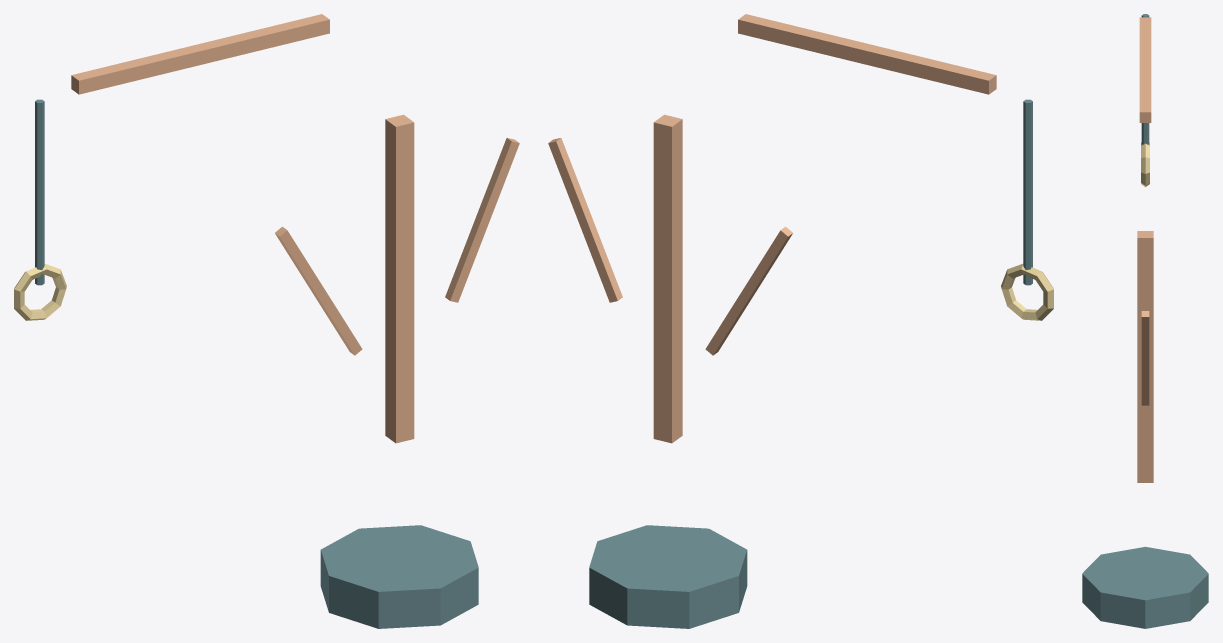
The model's file is harbour-crane-01.glb.
3 renders of one model, left to right at view 1: azimuth 30°, elevation 25°; view 2: azimuth 150°, elevation 25°; view 3: azimuth 270°, elevation 25°, orthographic. The views are drawn at different scales.
Visible parts, largest first — view 1: Base, Mast, Arm, Brace_1, Brace_0, Cable, Hook; view 2: Base, Mast, Arm, Brace_1, Brace_0, Cable, Hook; view 3: Base, Mast, Arm, Brace_1, Hook, Cable.
Boxes of the visible parts, box(x1,y1,x2,y2) form: Base: box(320, 525, 478, 628); Mast: box(385, 114, 414, 443); Arm: box(71, 14, 329, 94); Brace_1: box(445, 138, 519, 302); Brace_0: box(275, 226, 362, 355); Cable: box(35, 99, 44, 285); Hook: box(14, 264, 66, 320); Base: box(589, 525, 747, 628); Mast: box(653, 114, 682, 443); Arm: box(738, 14, 996, 94); Brace_1: box(548, 138, 622, 302); Brace_0: box(705, 226, 792, 355); Cable: box(1023, 99, 1032, 285); Hook: box(1001, 264, 1053, 320); Base: box(1082, 546, 1208, 628); Mast: box(1137, 231, 1153, 482); Arm: box(1139, 17, 1151, 122); Brace_1: box(1141, 311, 1149, 405); Hook: box(1141, 142, 1149, 186); Cable: box(1141, 14, 1149, 144).
Bounding box in the file's own units: 3.41 × 3.86 × 0.96.
